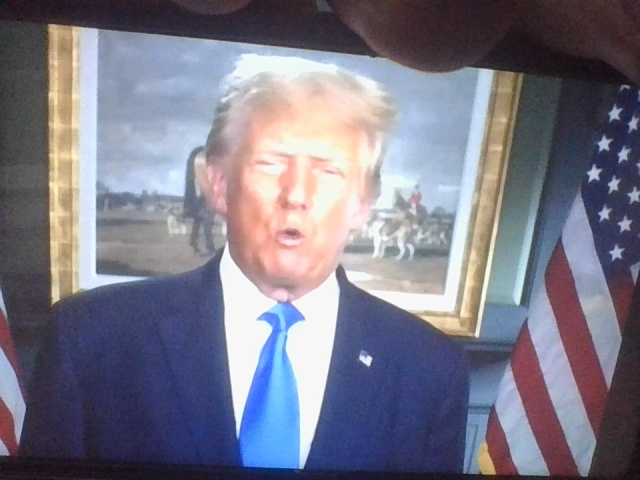fake: (207, 48, 381, 294)
